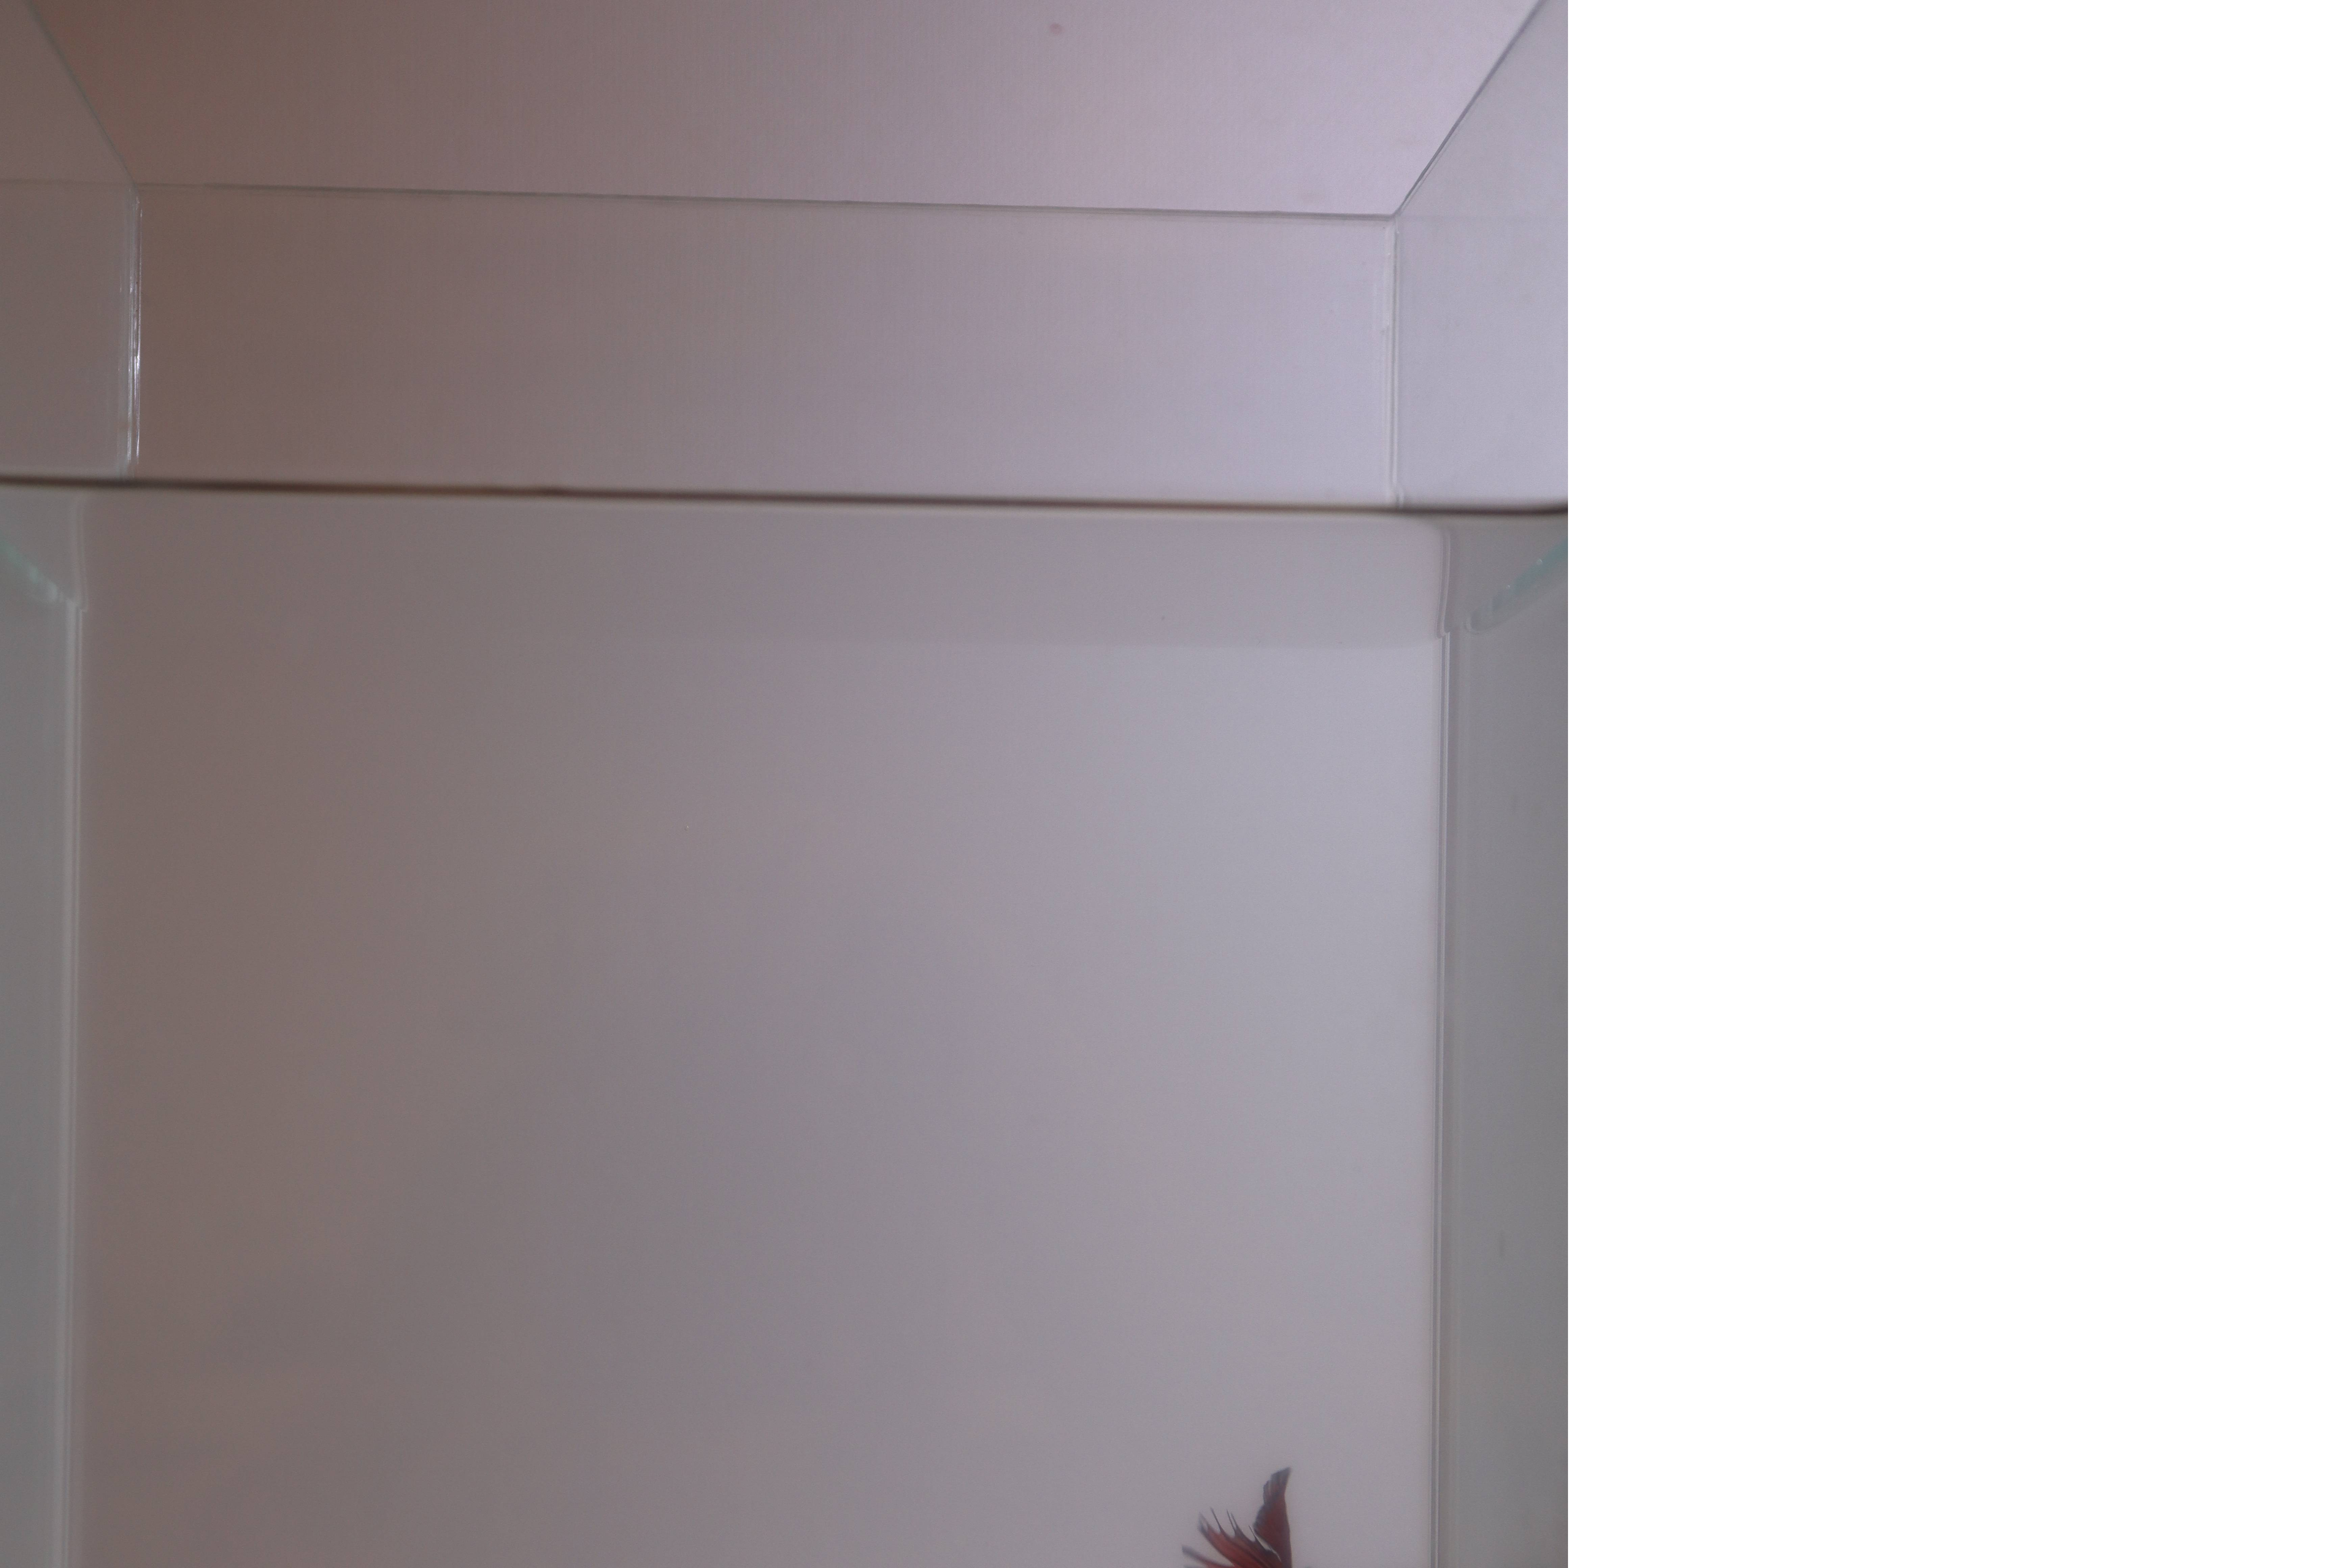fish: (1165, 1453, 1311, 1568)
